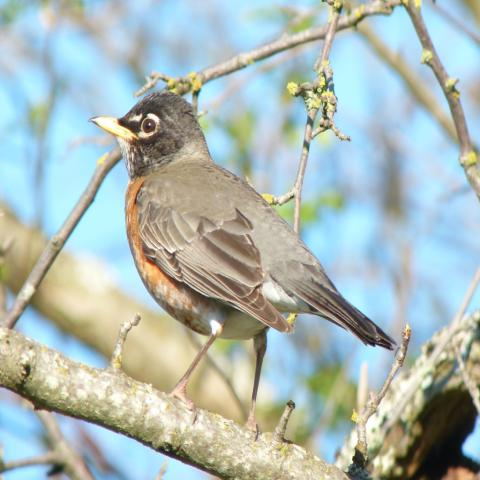bird: (86, 88, 398, 439)
